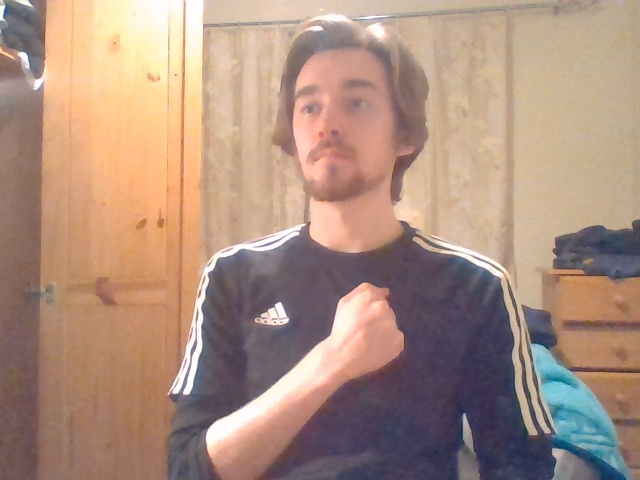my: (333, 282, 405, 375)
